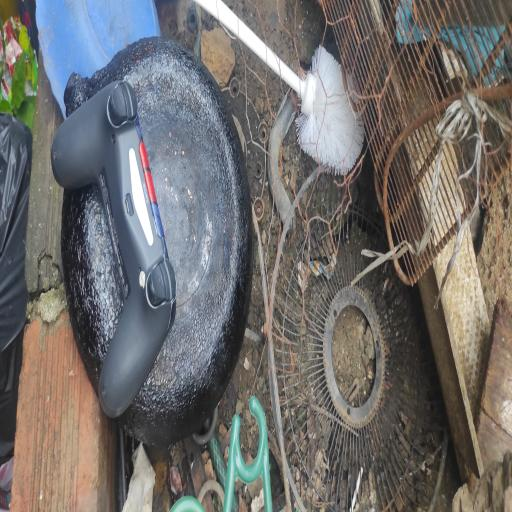ControlPlay4: (51, 81, 176, 417)
